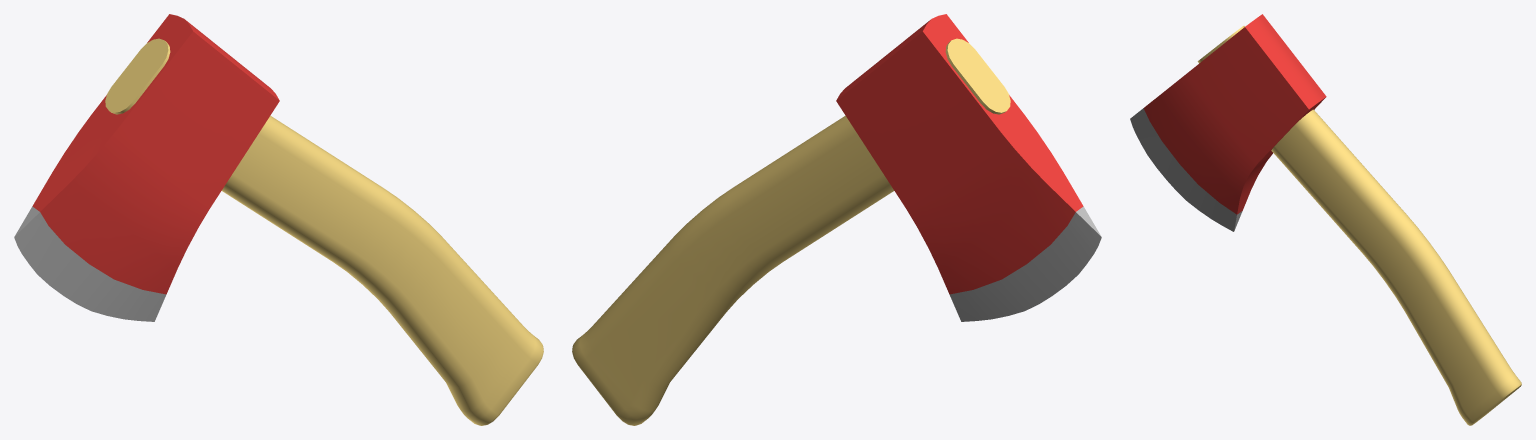
The model's file is axe.glb.
The picture shows the model from 3 angles, left to right: view 1: azimuth 30°, elevation 25°; view 2: azimuth 150°, elevation 25°; view 3: azimuth 330°, elevation 25°; orthographic projection. The views are drawn at different scales.
Parts seen in each view (by area): view 1: Cube.987; view 2: Cube.987; view 3: Cube.987.
Part boxes in pixels (box(x1,y1,x2,y2)): Cube.987: box(14, 14, 543, 425); Cube.987: box(572, 14, 1101, 425); Cube.987: box(1130, 14, 1521, 425).
Bounding box in the file's own units: 2.3 × 1.99 × 0.18.
Materials: 1 (1 with a texture image).
